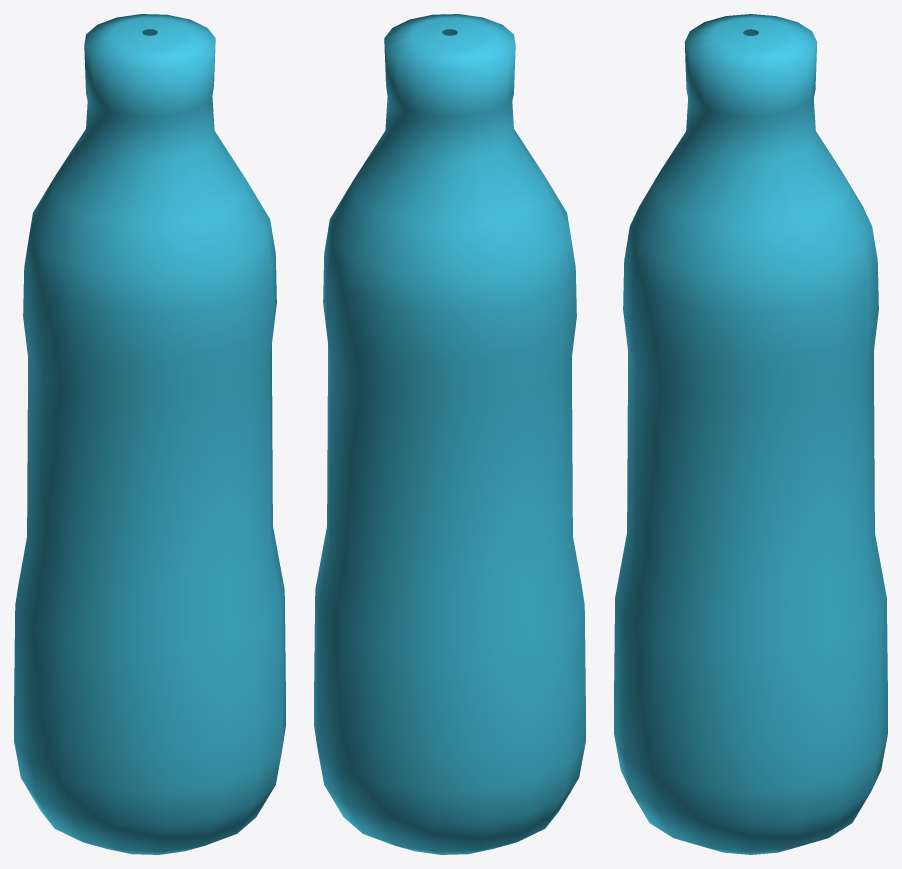
File: Bottle.fbx
3 renders of one model, left to right at view 1: azimuth 30°, elevation 25°; view 2: azimuth 150°, elevation 25°; view 3: azimuth 270°, elevation 25°, orthographic.
Visible parts, largest first — view 1: Plane; view 2: Plane; view 3: Plane.
Part boxes in pixels (x1,y1,x2,y2): Plane: (14, 14, 285, 854); Plane: (314, 14, 585, 854); Plane: (614, 14, 887, 854).
Size of the model in its own units: 106 by 344 by 106.
